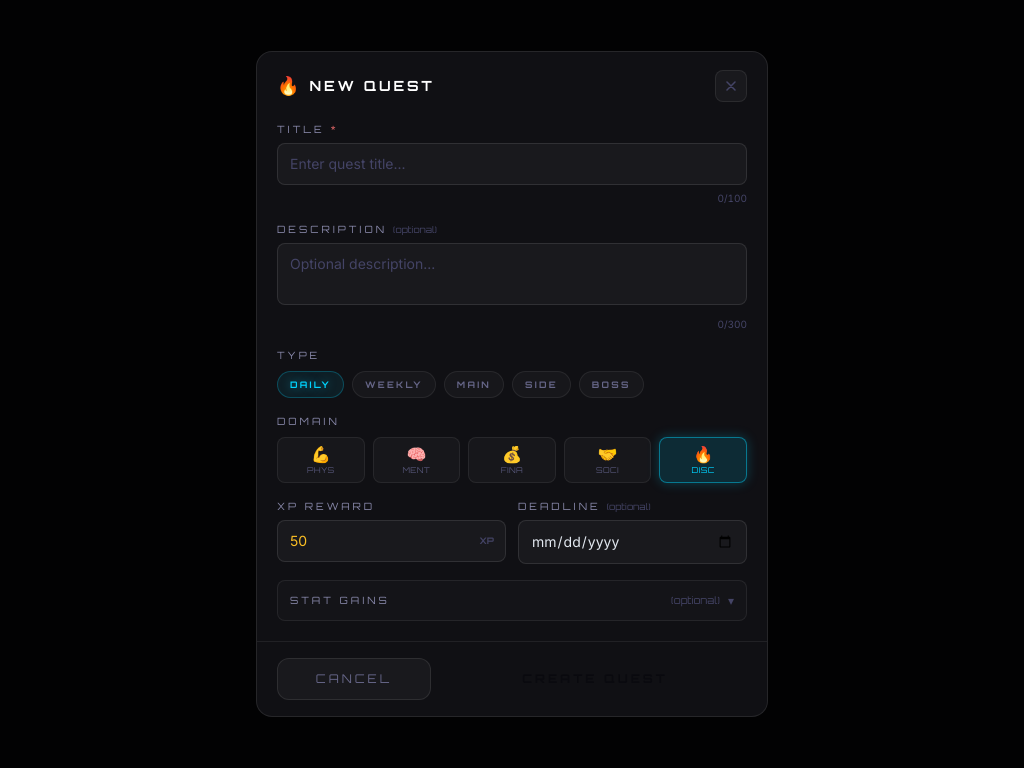
Scenario: QuestCreateModal › stat gains section › expands stat section when toggle is clicked
Click the button "Stat Gains (optional) ▾".
click(340, 600)  # box [278,581,746,620]
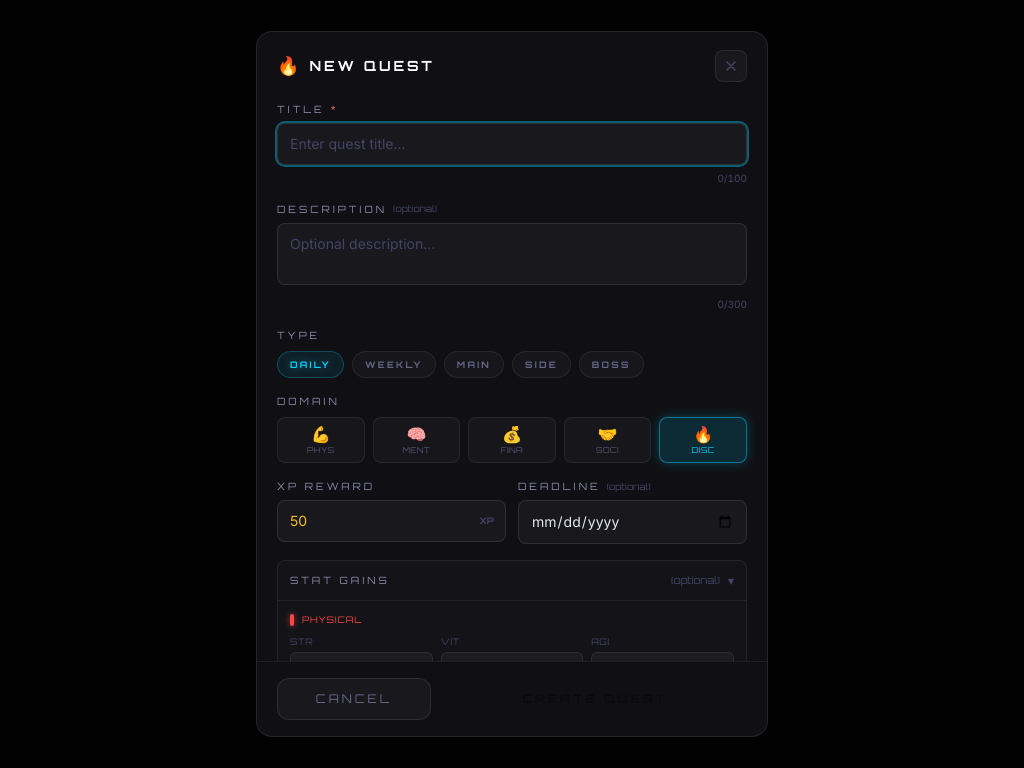
Now the button "Stat Gains (optional) ▾" is expanded, box [278,561,746,600]
